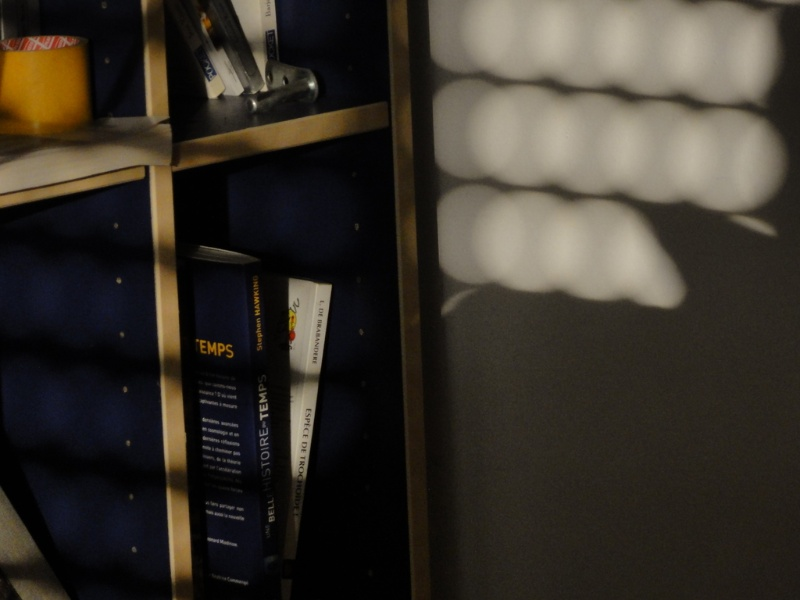book: (183, 220, 325, 598)
